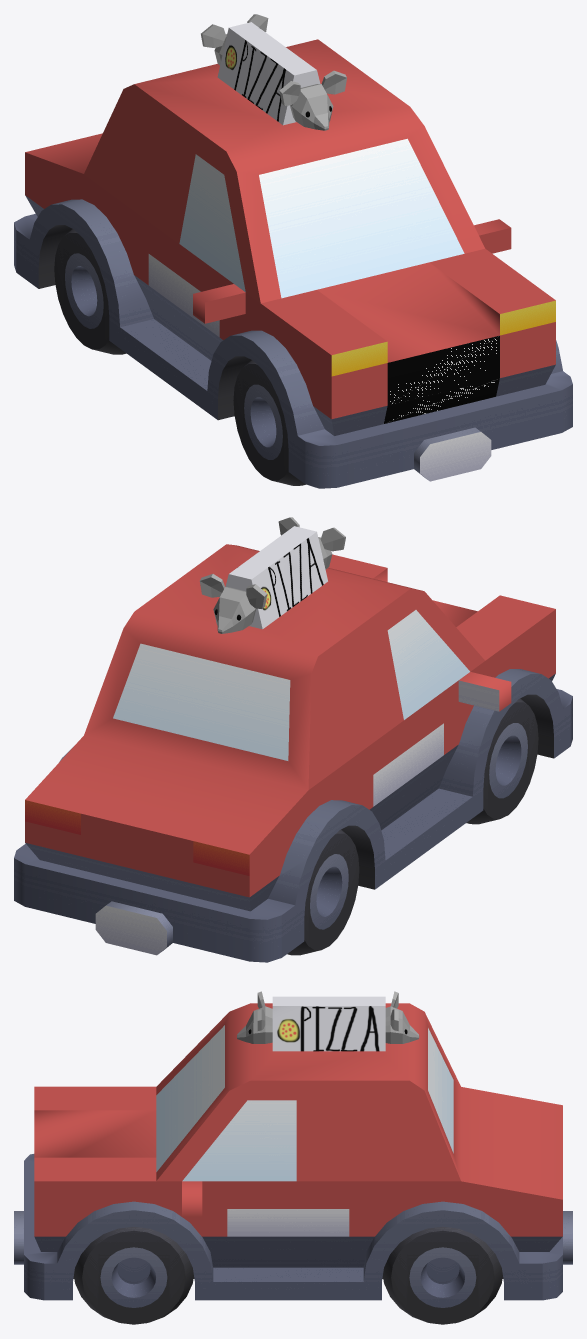
Rendered from PIZZACAR.glb.
3 renders of one model, top to bottom at view 1: azimuth 30°, elevation 25°; view 2: azimuth 150°, elevation 25°; view 3: azimuth 270°, elevation 25°, orthographic. The views are drawn at different scales.
Visible parts, largest first — view 1: body, body.001, wheel-back-right, wheel-front-right, BAKR.002, BAKR.001; view 2: body, body.001, wheel-front-right, wheel-back-right, BAKR.001, BAKR.002; view 3: body, wheel-front-left, wheel-back-left, body.001, BAKR.002, BAKR.001.
Part boxes in pixels (x1,y1,x2,y2): body: [14, 39, 572, 488]; body.001: [217, 22, 320, 125]; wheel-back-right: [54, 229, 126, 354]; wheel-front-right: [233, 360, 305, 485]; BAKR.002: [279, 70, 346, 130]; BAKR.001: [201, 14, 268, 65]; body: [14, 544, 572, 962]; body.001: [225, 526, 327, 629]; wheel-front-right: [466, 698, 538, 824]; wheel-back-right: [287, 829, 359, 955]; BAKR.001: [199, 574, 267, 633]; BAKR.002: [278, 517, 345, 569]; body: [14, 1003, 572, 1300]; wheel-front-left: [74, 1226, 193, 1324]; wheel-back-left: [383, 1226, 502, 1324]; body.001: [272, 996, 385, 1051]; BAKR.002: [237, 991, 272, 1043]; BAKR.001: [385, 991, 419, 1043].
Bounding box in the file's own units: 1.5 × 1.53 × 2.75.
3 materials, 3 textured.
